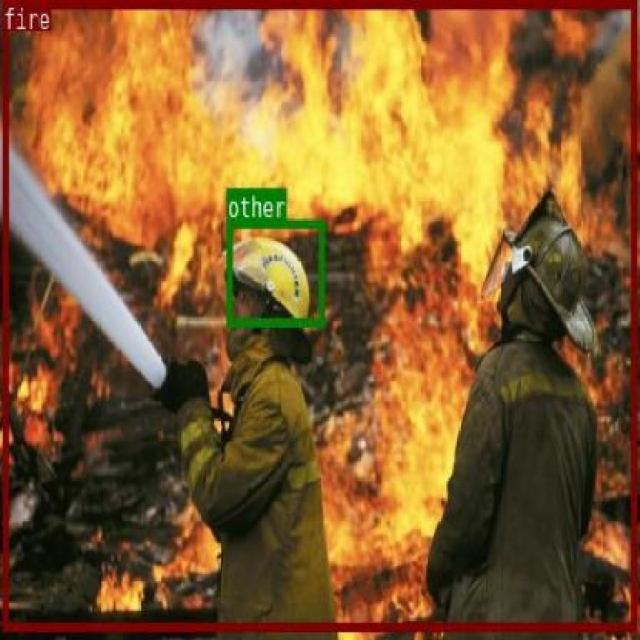fire: (2, 0, 636, 631)
